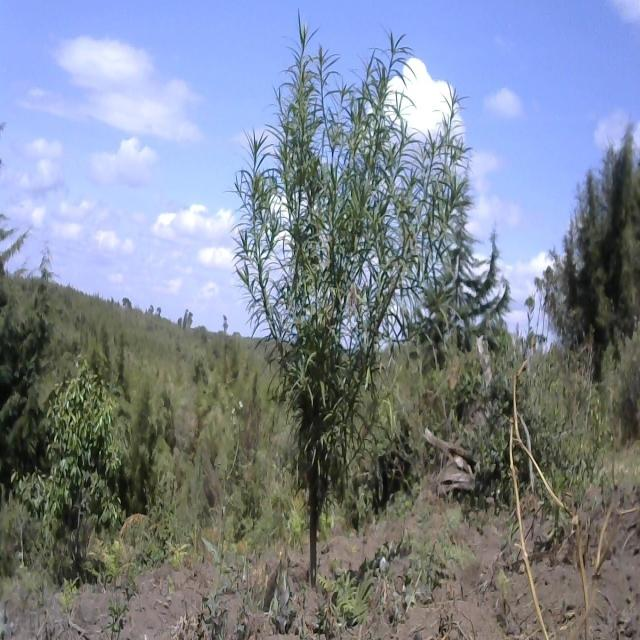Juniperus procesera: (414, 200, 504, 360)
Olea welwitchii: (22, 358, 124, 579)
Podocarpus falcatus: (237, 17, 469, 564)
